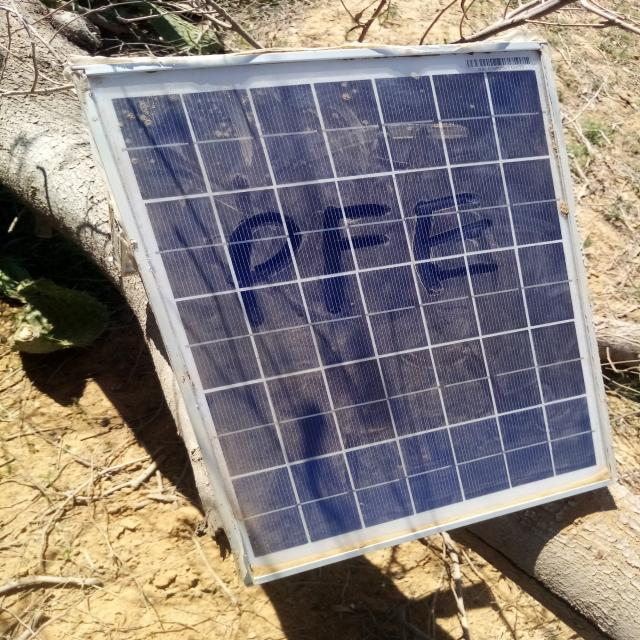faulty: (78, 47, 619, 585)
